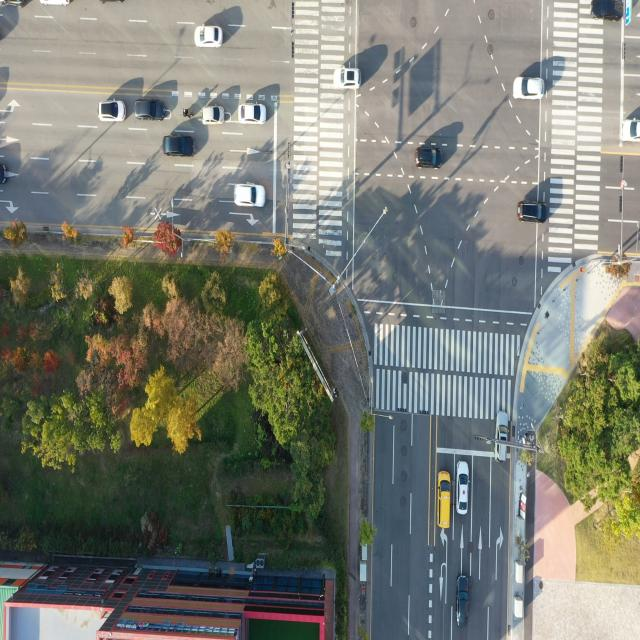car: (513, 76, 546, 102), (455, 575, 470, 628), (438, 469, 451, 529), (235, 183, 266, 208), (165, 133, 196, 158), (457, 462, 471, 516), (238, 101, 268, 126), (135, 98, 166, 122), (590, 0, 620, 24), (98, 99, 126, 124), (518, 199, 546, 224), (332, 67, 362, 90), (194, 28, 224, 50), (415, 144, 441, 169), (456, 460, 468, 514), (495, 411, 507, 462), (619, 119, 640, 142), (203, 104, 225, 124), (0, 157, 8, 188)
